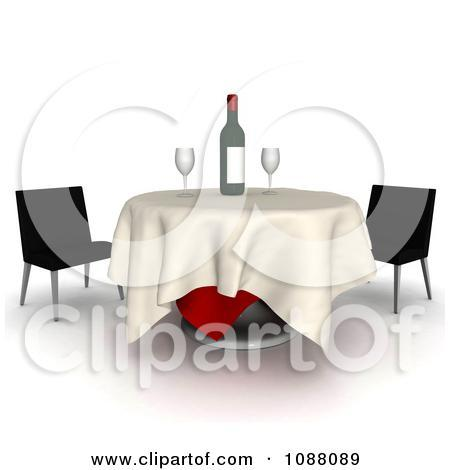bottle: (208, 83, 254, 199)
chair: (7, 174, 128, 322), (358, 171, 446, 326)
diningtable: (103, 187, 379, 391)
